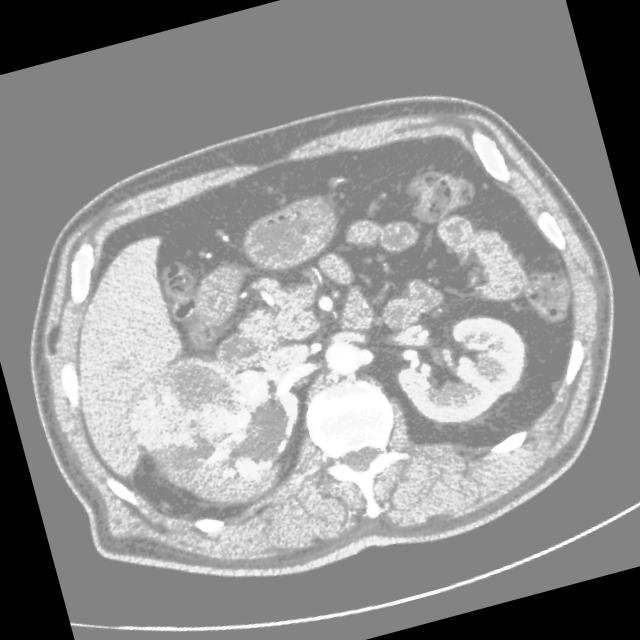TUMOR: (136, 287, 531, 500)
